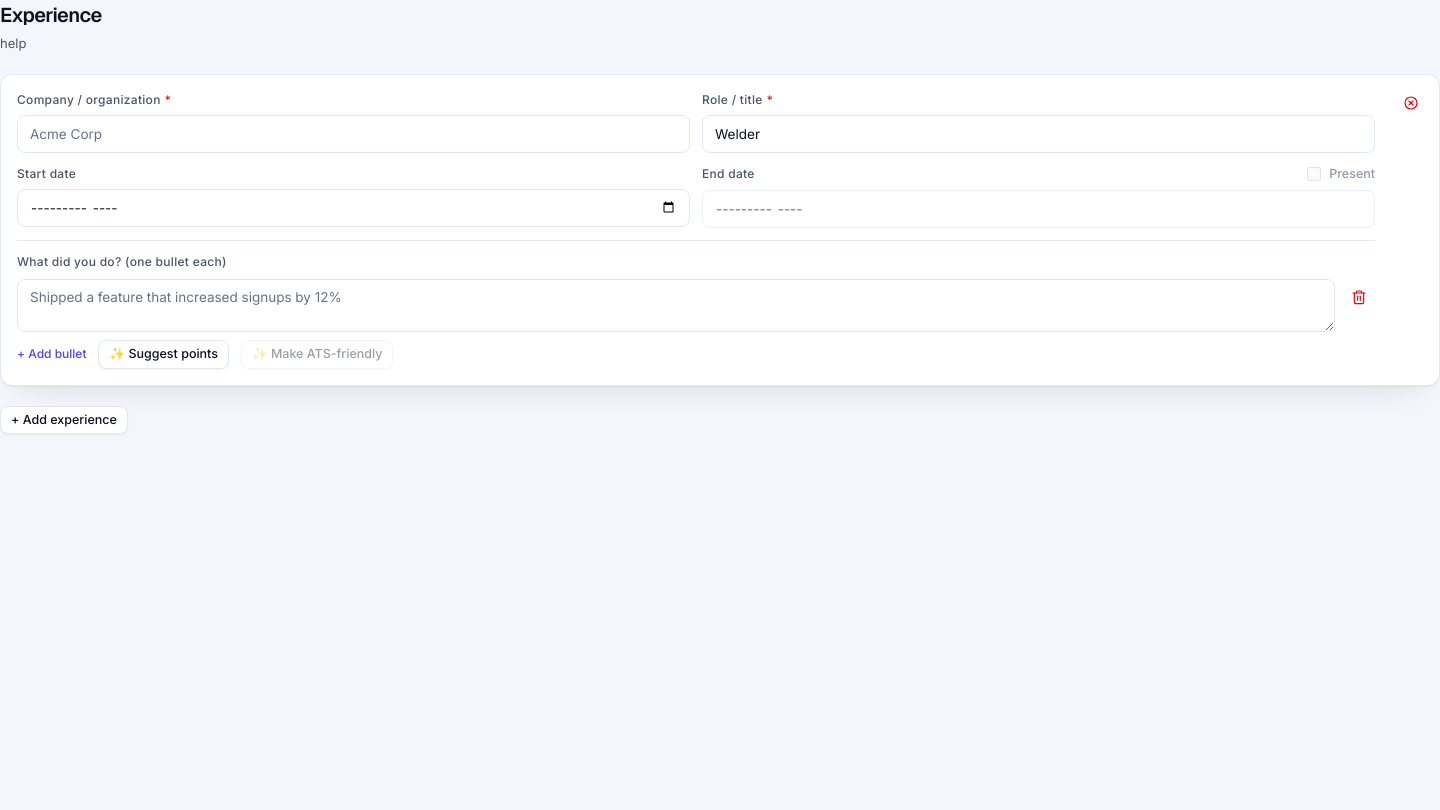
Test case: ExperienceForm (experience) › falls back to the job family's built-in points when AI fails
This screenshot has width=1440, height=810.
Click the button "✨ Suggest points" at {"x": 164, "y": 354}, box [98, 340, 229, 369]
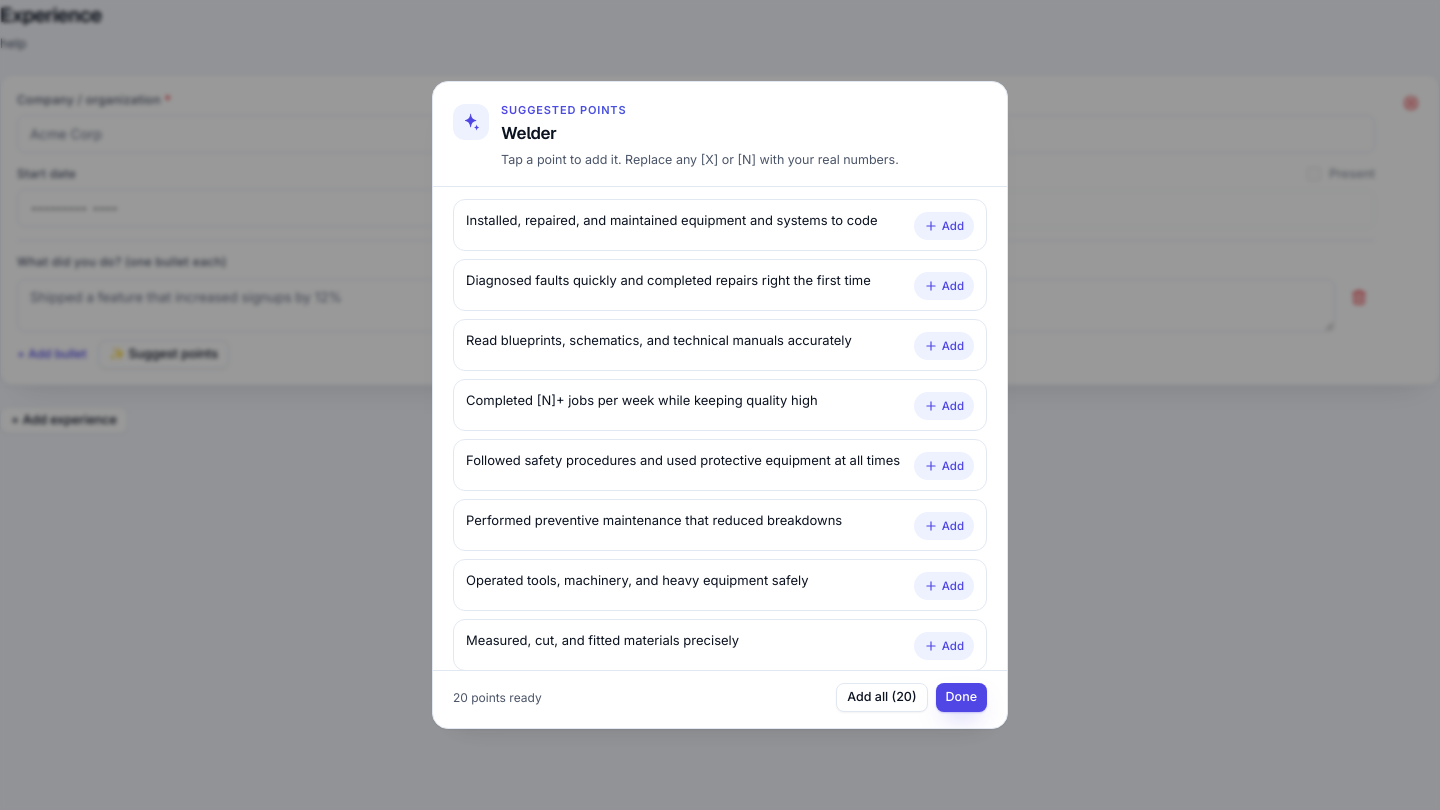
Expected: the dialog shows "Suggested points", [501, 103, 626, 117]
Expected: the button "Installed, repaired, and maintained equipment and systems to code" is shown, [453, 199, 987, 251]
